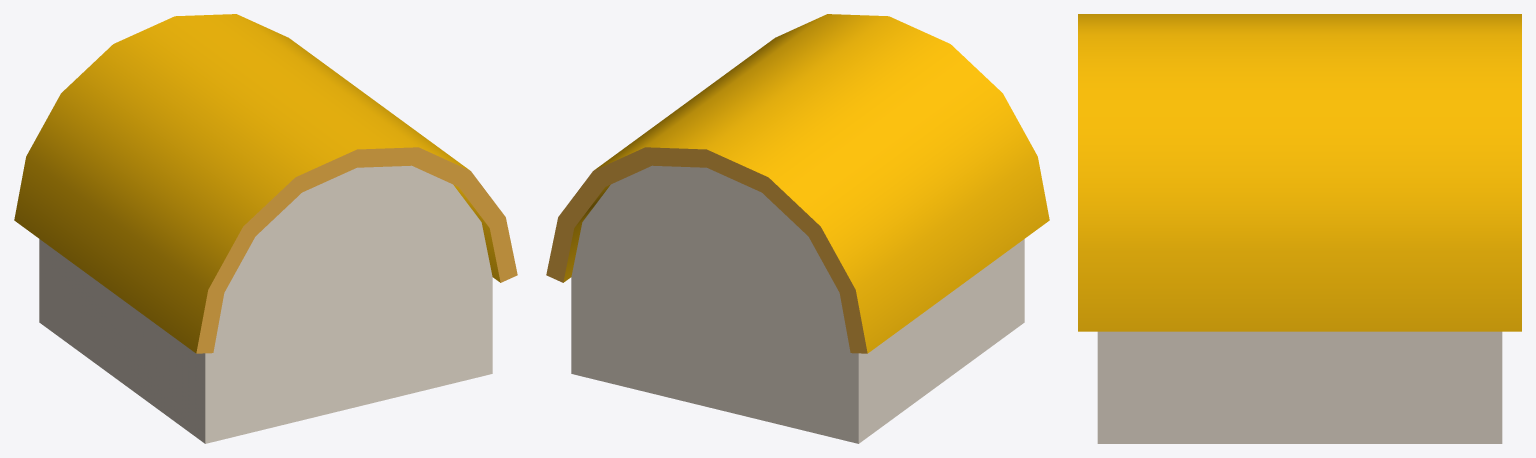
File: Map-House-R-Lv1-Y.fbx
3 renders of one model, left to right at view 1: azimuth 30°, elevation 25°; view 2: azimuth 150°, elevation 25°; view 3: azimuth 270°, elevation 25°, orthographic. The views are drawn at different scales.
Visible parts, largest first — view 1: Map-House-R-Lv1-Y; view 2: Map-House-R-Lv1-Y; view 3: Map-House-R-Lv1-Y.
Boxes of the visible parts, left/top/right/bottom form: Map-House-R-Lv1-Y: left=14, top=14, right=517, bottom=443; Map-House-R-Lv1-Y: left=546, top=14, right=1049, bottom=443; Map-House-R-Lv1-Y: left=1078, top=14, right=1521, bottom=443.
Size of the model in its own units: 1.13 by 0.8886 by 1.11.
